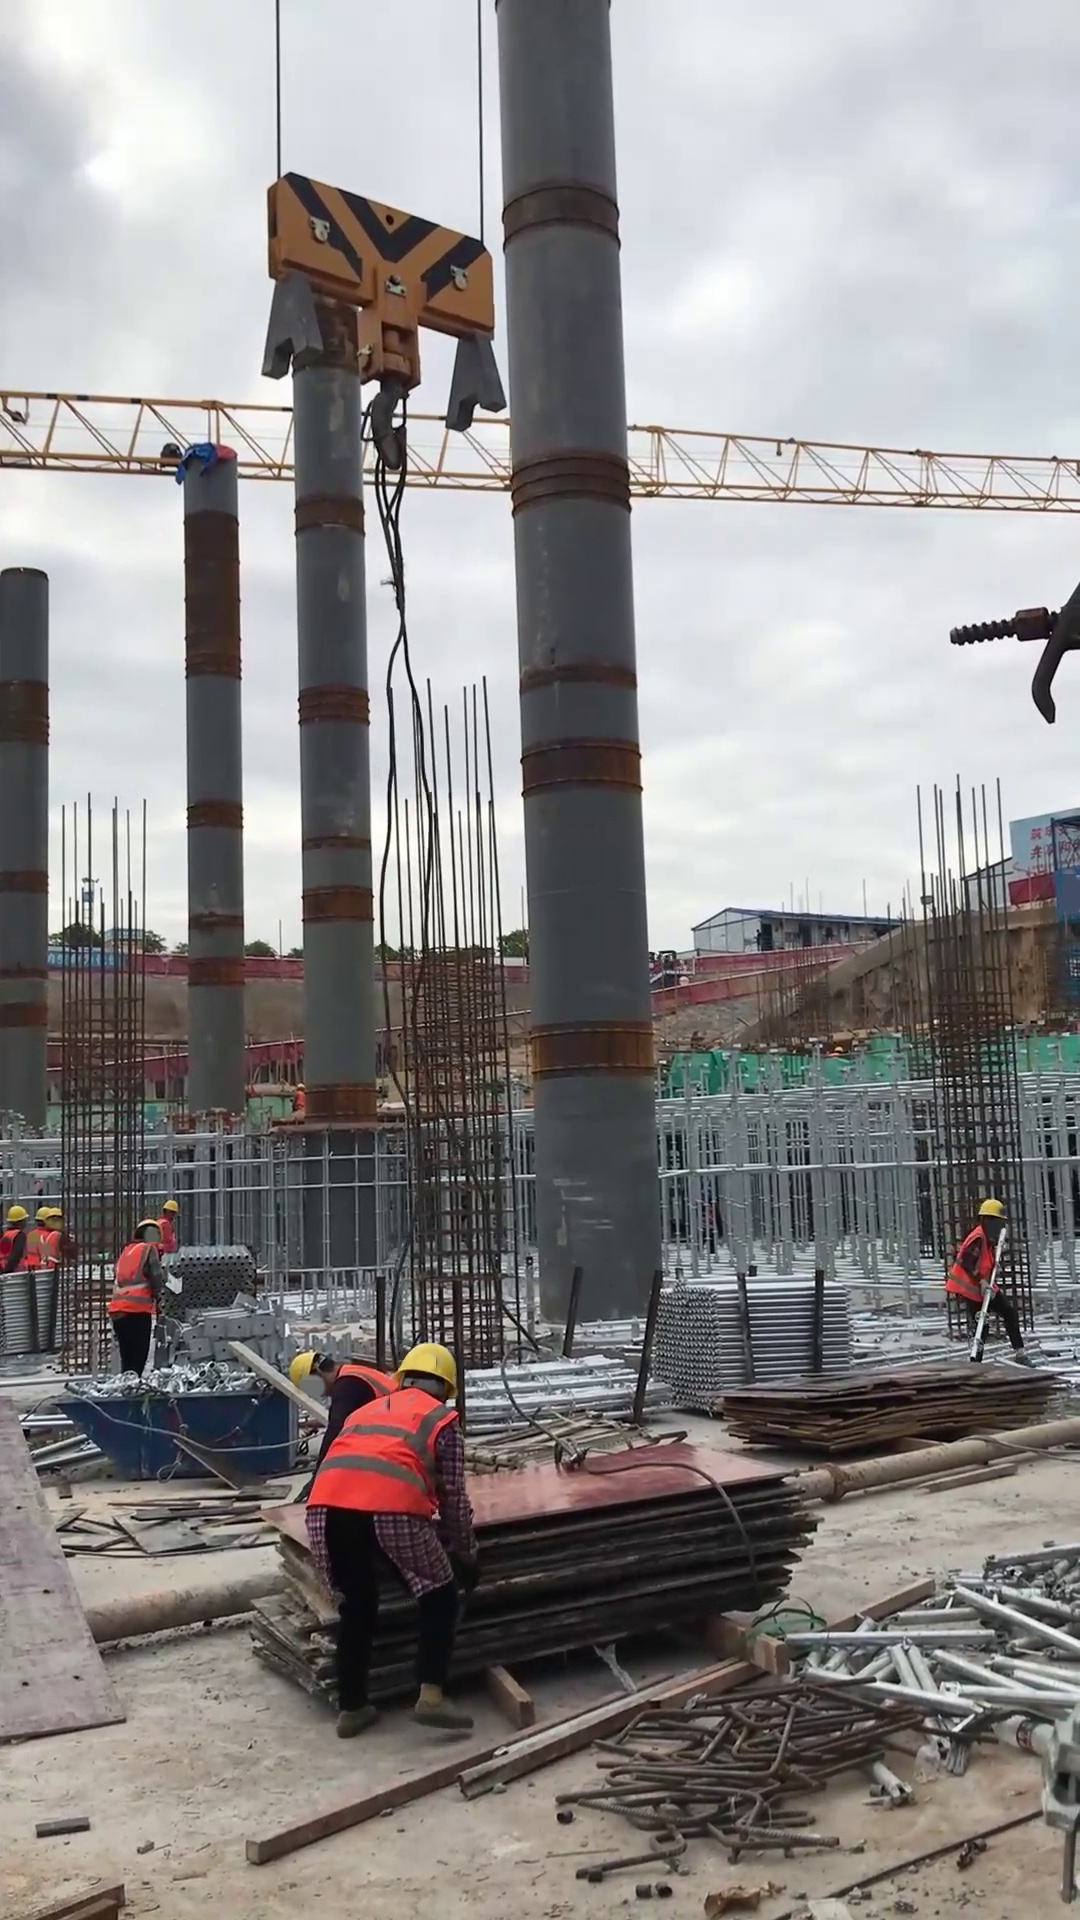helmet: (392, 1340, 459, 1400), (287, 1351, 321, 1391), (976, 1198, 1007, 1222), (1, 1204, 30, 1223), (161, 1198, 179, 1214), (43, 1206, 63, 1221), (33, 1206, 51, 1221), (832, 1043, 845, 1053), (294, 1080, 304, 1089)
person: (304, 1337, 489, 1741), (942, 1196, 1041, 1370), (106, 1218, 162, 1380), (283, 1346, 400, 1422), (1, 1202, 33, 1276), (24, 1203, 52, 1273), (39, 1206, 67, 1275), (155, 1196, 178, 1254), (290, 1076, 308, 1117)
vest: (306, 1386, 459, 1520), (943, 1225, 1002, 1302), (106, 1239, 160, 1319), (333, 1362, 402, 1401), (1, 1229, 29, 1273), (39, 1228, 64, 1267), (23, 1227, 47, 1265), (156, 1214, 179, 1254), (294, 1089, 306, 1112)
